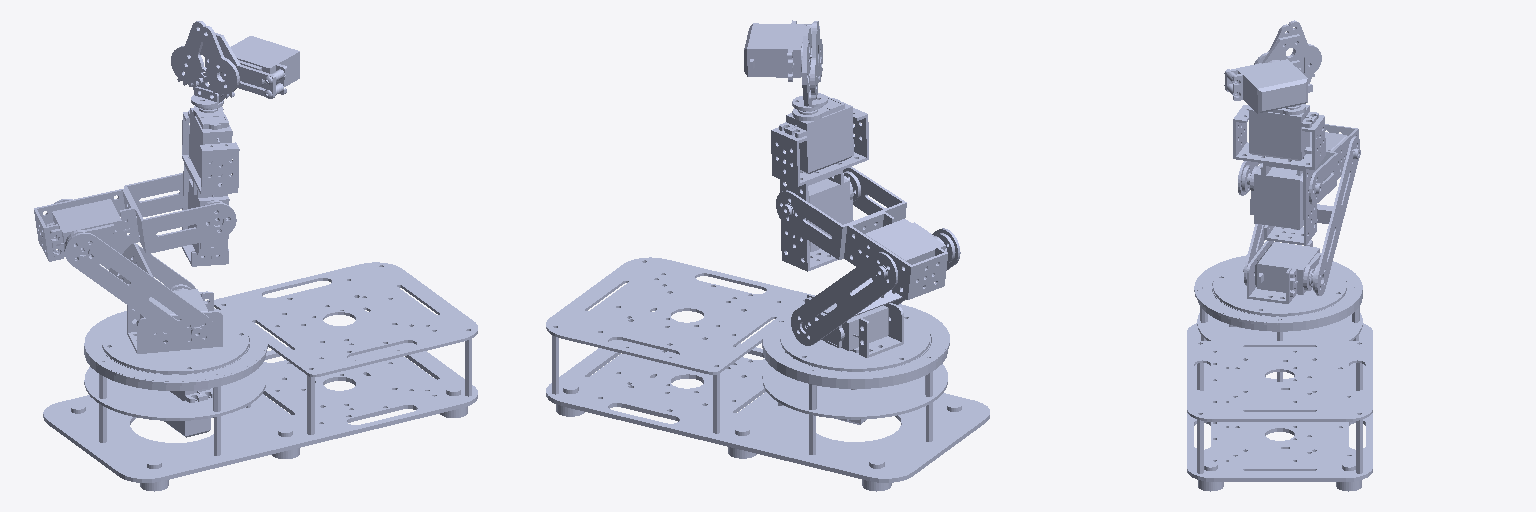
URDF robot description (111.SLDASM):
<?xml version="1.0" encoding="utf-8"?>
<!-- This URDF was automatically created by SolidWorks to URDF Exporter! Originally created by Stephen Brawner (brawner@gmail.com) 
     Commit Version: 1.6.0-4-g7f85cfe  Build Version: 1.6.7995.38578
     For more information, please see http://wiki.ros.org/sw_urdf_exporter -->
<robot
  name="111.SLDASM">
  <link
    name="base_link">
    <inertial>
      <origin
        xyz="-0.0559381356520999 -0.271283561362411 0.0290055398271714"
        rpy="0 0 0" />
      <mass
        value="0.235064989394271" />
      <inertia
        ixx="0.000270092559502218"
        ixy="-1.26465530399038E-07"
        ixz="4.26674609935467E-22"
        iyy="0.000699718413983908"
        iyz="-1.75867997782043E-07"
        izz="0.000959261287268697" />
    </inertial>
    <visual>
      <origin
        xyz="0 0 0"
        rpy="0 0 0" />
      <geometry>
        <mesh
          filename="package://111.SLDASM/meshes/base_link.STL" />
      </geometry>
      <material
        name="">
        <color
          rgba="0.792156862745098 0.819607843137255 0.933333333333333 1" />
      </material>
    </visual>
    <collision>
      <origin
        xyz="0 0 0"
        rpy="0 0 0" />
      <geometry>
        <mesh
          filename="package://111.SLDASM/meshes/base_link.STL" />
      </geometry>
    </collision>
  </link>
  <link
    name="arm_Link1">
    <inertial>
      <origin
        xyz="-0.104956813349184 0.0734673174582093 0.272485039989104"
        rpy="0 0 0" />
      <mass
        value="0.0863952784258492" />
      <inertia
        ixx="4.17022072078227E-05"
        ixy="-6.26476231891963E-07"
        ixz="-6.77052245974344E-07"
        iyy="8.07400136377607E-05"
        iyz="-1.43848142424168E-07"
        izz="4.21514380814862E-05" />
    </inertial>
    <visual>
      <origin
        xyz="0 0 0"
        rpy="0 0 0" />
      <geometry>
        <mesh
          filename="package://111.SLDASM/meshes/arm_Link1.STL" />
      </geometry>
      <material
        name="">
        <color
          rgba="0.792156862745098 0.819607843137255 0.933333333333333 1" />
      </material>
    </visual>
    <collision>
      <origin
        xyz="0 0 0"
        rpy="0 0 0" />
      <geometry>
        <mesh
          filename="package://111.SLDASM/meshes/arm_Link1.STL" />
      </geometry>
    </collision>
  </link>
  <joint
    name="arm_joint1"
    type="revolute">
    <origin
      xyz="-0.12665 0.023136 -0.0018235"
      rpy="1.5708 0.019139 0.43373" />
    <parent
      link="base_link" />
    <child
      link="arm_Link1" />
    <axis
      xyz="0.019137 -0.99982 0" />
    <limit
      lower="1.57"
      upper="-1.57"
      effort="10"
      velocity="1" />
  </joint>
  <link
    name="arm_Link2">
    <inertial>
      <origin
        xyz="-0.136981460003215 0.139868696586984 0.236611249069963"
        rpy="0 0 0" />
      <mass
        value="0.0491254154253218" />
      <inertia
        ixx="1.4766209430222E-05"
        ixy="1.40588870436343E-06"
        ixz="2.50939417371933E-06"
        iyy="2.12408681092163E-05"
        iyz="1.49328292287517E-06"
        izz="1.47684969001851E-05" />
    </inertial>
    <visual>
      <origin
        xyz="0 0 0"
        rpy="0 0 0" />
      <geometry>
        <mesh
          filename="package://111.SLDASM/meshes/arm_Link2.STL" />
      </geometry>
      <material
        name="">
        <color
          rgba="0.792156862745098 0.819607843137255 0.933333333333333 1" />
      </material>
    </visual>
    <collision>
      <origin
        xyz="0 0 0"
        rpy="0 0 0" />
      <geometry>
        <mesh
          filename="package://111.SLDASM/meshes/arm_Link2.STL" />
      </geometry>
    </collision>
  </link>
  <joint
    name="arm_joint2"
    type="revolute">
    <origin
      xyz="0 0 0"
      rpy="0 0 0" />
    <parent
      link="arm_Link1" />
    <child
      link="arm_Link2" />
    <axis
      xyz="0.67839 0.012986 -0.73459" />
    <limit
      lower="1.57"
      upper="-1.57"
      effort="10"
      velocity="1" />
  </joint>
  <link
    name="arm_Link3">
    <inertial>
      <origin
        xyz="-0.0139782733138561 0.207483792828537 0.272879256706971"
        rpy="0 0 0" />
      <mass
        value="0.0469201885614542" />
      <inertia
        ixx="1.5124561782914E-05"
        ixy="-1.70946641055024E-06"
        ixz="-1.08816382838669E-06"
        iyy="1.63084769447767E-05"
        iyz="3.01175077217733E-07"
        izz="1.38537972714185E-05" />
    </inertial>
    <visual>
      <origin
        xyz="0 0 0"
        rpy="0 0 0" />
      <geometry>
        <mesh
          filename="package://111.SLDASM/meshes/arm_Link3.STL" />
      </geometry>
      <material
        name="">
        <color
          rgba="0.792156862745098 0.819607843137255 0.933333333333333 1" />
      </material>
    </visual>
    <collision>
      <origin
        xyz="0 0 0"
        rpy="0 0 0" />
      <geometry>
        <mesh
          filename="package://111.SLDASM/meshes/arm_Link3.STL" />
      </geometry>
    </collision>
  </link>
  <joint
    name="arm_link3"
    type="revolute">
    <origin
      xyz="-0.019697 0.34886 0"
      rpy="3.4413E-05 -0.00015284 2.6987" />
    <parent
      link="arm_Link2" />
    <child
      link="arm_Link3" />
    <axis
      xyz="-0.60747 -0.30251 -0.73448" />
    <limit
      lower="1.57"
      upper="-1.57"
      effort="10"
      velocity="1" />
  </joint>
  <link
    name="arm_Link4">
    <inertial>
      <origin
        xyz="-0.193315642371155 0.197149253309815 0.284073775960619"
        rpy="0 0 0" />
      <mass
        value="0.045496261213073" />
      <inertia
        ixx="1.43973460162415E-05"
        ixy="1.15659883897814E-06"
        ixz="3.43378659364339E-06"
        iyy="1.1293932263043E-05"
        iyz="1.40080161557672E-06"
        izz="1.41837555752177E-05" />
    </inertial>
    <visual>
      <origin
        xyz="0 0 0"
        rpy="0 0 0" />
      <geometry>
        <mesh
          filename="package://111.SLDASM/meshes/arm_Link4.STL" />
      </geometry>
      <material
        name="">
        <color
          rgba="0.792156862745098 0.819607843137255 0.933333333333333 1" />
      </material>
    </visual>
    <collision>
      <origin
        xyz="0 0 0"
        rpy="0 0 0" />
      <geometry>
        <mesh
          filename="package://111.SLDASM/meshes/arm_Link4.STL" />
      </geometry>
    </collision>
  </link>
  <joint
    name="arm_link4"
    type="revolute">
    <origin
      xyz="-0.21366 0.34417 1.7156E-05"
      rpy="0 -0.00016036 -3.0653" />
    <parent
      link="arm_Link3" />
    <child
      link="arm_Link4" />
    <axis
      xyz="0.62865 0.25531 -0.73458" />
    <limit
      lower="1.57"
      upper="-1.57"
      effort="10"
      velocity="1" />
  </joint>
  <link
    name="arm_Link5">
    <inertial>
      <origin
        xyz="-0.00187803488717839 0.260412019578426 0.206260879912601"
        rpy="0 0 0" />
      <mass
        value="0.0395237436449325" />
      <inertia
        ixx="8.04395149765022E-06"
        ixy="7.2347908151662E-07"
        ixz="-2.77481099166181E-07"
        iyy="9.67097478858006E-06"
        iyz="-1.02949374873286E-07"
        izz="6.17199439920364E-06" />
    </inertial>
    <visual>
      <origin
        xyz="0 0 0"
        rpy="0 0 0" />
      <geometry>
        <mesh
          filename="package://111.SLDASM/meshes/arm_Link5.STL" />
      </geometry>
      <material
        name="">
        <color
          rgba="0.792156862745098 0.819607843137255 0.933333333333333 1" />
      </material>
    </visual>
    <collision>
      <origin
        xyz="0 0 0"
        rpy="0 0 0" />
      <geometry>
        <mesh
          filename="package://111.SLDASM/meshes/arm_Link5.STL" />
      </geometry>
    </collision>
  </link>
  <joint
    name="arm_joint5"
    type="revolute">
    <origin
      xyz="-0.2032 0 0.50812"
      rpy="3.1416 0.035773 3.1416" />
    <parent
      link="arm_Link4" />
    <child
      link="arm_Link5" />
    <axis
      xyz="-0.35831 -0.93313 0.029794" />
    <limit
      lower="1.57"
      upper="-1.57"
      effort="10"
      velocity="1" />
  </joint>
  <link
    name="gripper_Link">
    <inertial>
      <origin
        xyz="0.0225056150354474 0.263213220962936 0.207534158244583"
        rpy="0 0 0" />
      <mass
        value="0.00426636558699492" />
      <inertia
        ixx="7.47258359242624E-07"
        ixy="-1.97327379703181E-07"
        ixz="-5.93850555791093E-08"
        iyy="3.18232639089541E-07"
        iyz="-8.70631492067341E-08"
        izz="5.94576857369886E-07" />
    </inertial>
    <visual>
      <origin
        xyz="0 0 0"
        rpy="0 0 0" />
      <geometry>
        <mesh
          filename="package://111.SLDASM/meshes/gripper_Link.STL" />
      </geometry>
      <material
        name="">
        <color
          rgba="0.792156862745098 0.819607843137255 0.933333333333333 1" />
      </material>
    </visual>
    <collision>
      <origin
        xyz="0 0 0"
        rpy="0 0 0" />
      <geometry>
        <mesh
          filename="package://111.SLDASM/meshes/gripper_Link.STL" />
      </geometry>
    </collision>
  </link>
  <joint
    name="gripper_joint"
    type="revolute">
    <origin
      xyz="0 -0.045642 0.086099"
      rpy="-0.23033 0 1.8332E-05" />
    <parent
      link="arm_Link5" />
    <child
      link="gripper_Link" />
    <axis
      xyz="0.93284 -0.34311 -0.1099" />
    <limit
      lower="1.57"
      upper="-1.57"
      effort="10"
      velocity="1" />
  </joint>
</robot>

--- What the picture shows (computed from the rendered views, not written in the file) ---
3 views of the same robot in one strip: view 1: azimuth 30°, elevation 25°; view 2: azimuth 150°, elevation 25°; view 3: azimuth 270°, elevation 25° (orthographic).
Robot: 111.SLDASM — 7 links, 6 joints (6 revolute); root link base_link; default pose: every joint at zero.
Visible links, largest first — view 1: base_link, arm_Link2, arm_Link3, arm_Link1, arm_Link5, arm_Link4, gripper_Link; view 2: base_link, arm_Link3, arm_Link4, arm_Link2, arm_Link1, arm_Link5, gripper_Link; view 3: base_link, arm_Link1, arm_Link4, arm_Link3, arm_Link5, arm_Link2, gripper_Link.
Boxes of the visible links, bbox=[...] form: base_link: bbox=[43, 262, 477, 491]; arm_Link2: bbox=[47, 199, 214, 348]; arm_Link3: bbox=[34, 173, 236, 261]; arm_Link1: bbox=[101, 284, 249, 374]; arm_Link5: bbox=[187, 26, 299, 107]; arm_Link4: bbox=[182, 100, 239, 266]; gripper_Link: bbox=[171, 21, 238, 98]; base_link: bbox=[546, 257, 989, 491]; arm_Link3: bbox=[776, 167, 947, 299]; arm_Link4: bbox=[771, 96, 868, 271]; arm_Link2: bbox=[791, 219, 960, 345]; arm_Link1: bbox=[780, 294, 930, 371]; arm_Link5: bbox=[744, 20, 827, 107]; gripper_Link: bbox=[810, 22, 821, 99]; base_link: bbox=[1187, 255, 1372, 491]; arm_Link1: bbox=[1212, 240, 1347, 316]; arm_Link4: bbox=[1233, 104, 1325, 245]; arm_Link3: bbox=[1238, 124, 1358, 229]; arm_Link5: bbox=[1224, 24, 1315, 113]; arm_Link2: bbox=[1243, 132, 1360, 295]; gripper_Link: bbox=[1257, 20, 1321, 76].
Bounding box of the posed robot: 0.2846 × 0.135 × 0.2968 m (x, y, z).
Meshes: 7 distinct files referenced, 7 mesh visuals loaded (7 binary STL).
